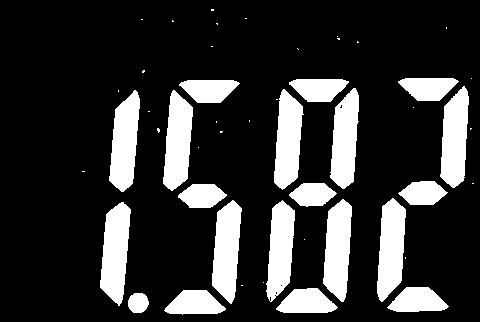1: (97, 86, 145, 310)
2: (376, 73, 473, 317)
5: (158, 76, 251, 318)
8: (263, 76, 364, 317)
dot: (126, 291, 150, 313)
